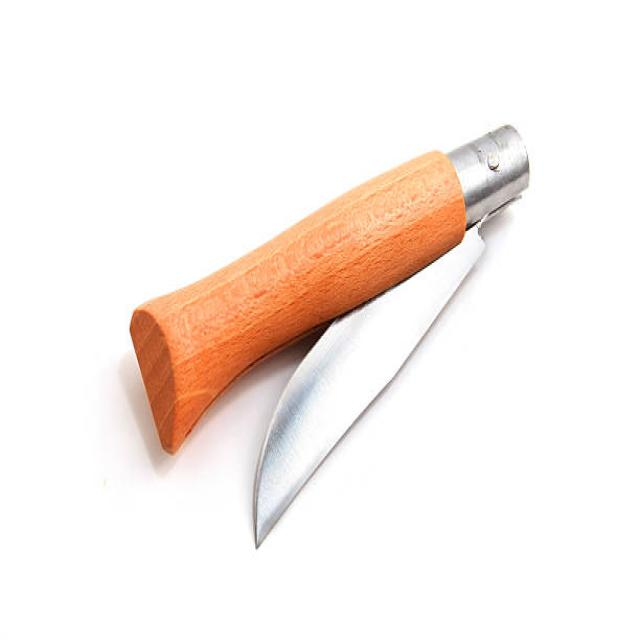knife: (120, 123, 544, 574)
